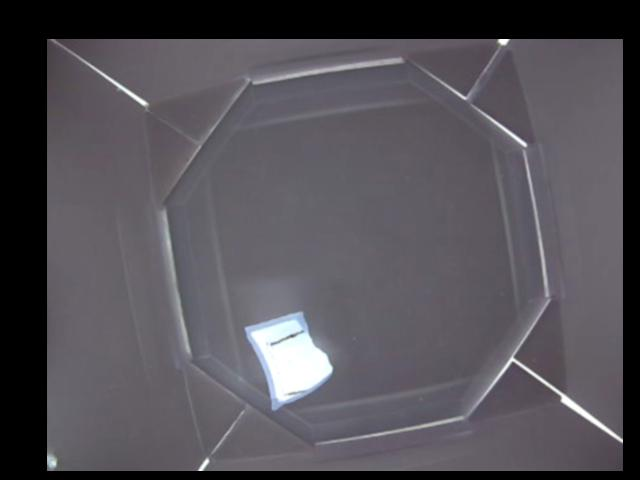China: (242, 308, 333, 406)
